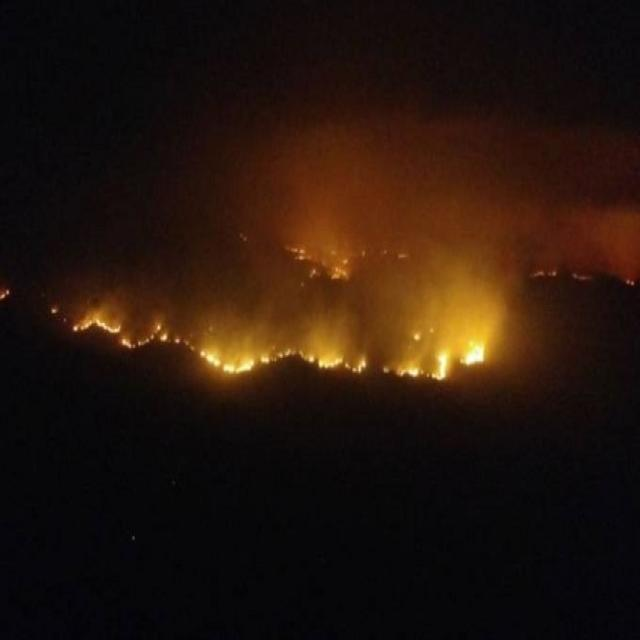Fire: (0, 254, 505, 404)
Smoke: (256, 74, 525, 323)
